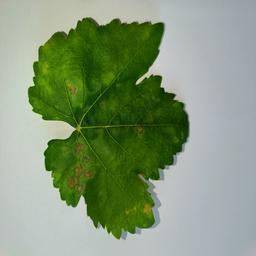Powdery-Mildew: (38, 58, 55, 94)
